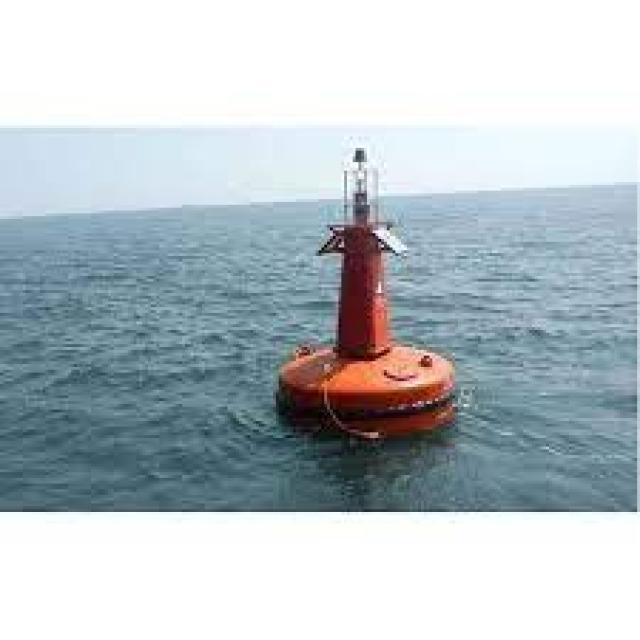buoy: (249, 126, 481, 448)
